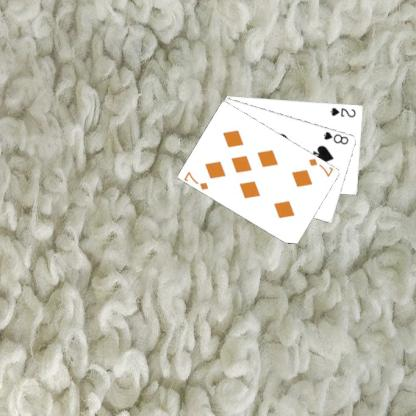2S: (327, 105, 357, 118)
7D: (306, 156, 334, 178), (182, 169, 210, 191)
8S: (321, 128, 350, 146)
